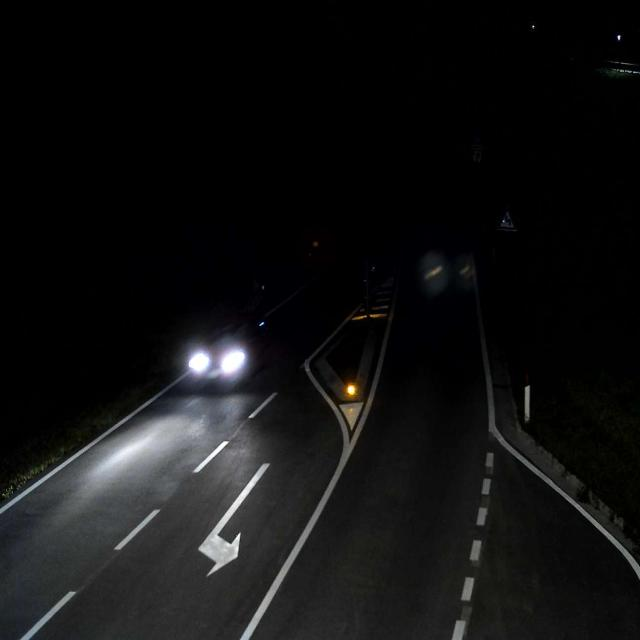car: (185, 315, 271, 392)
